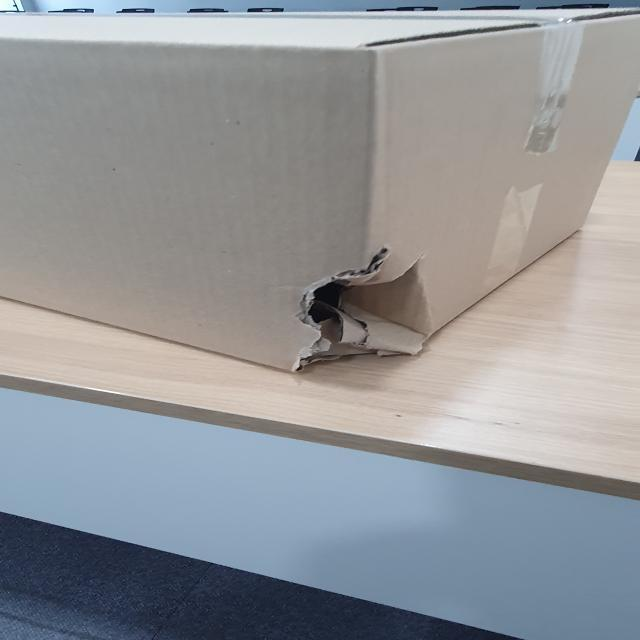hole: (275, 245, 433, 375)
